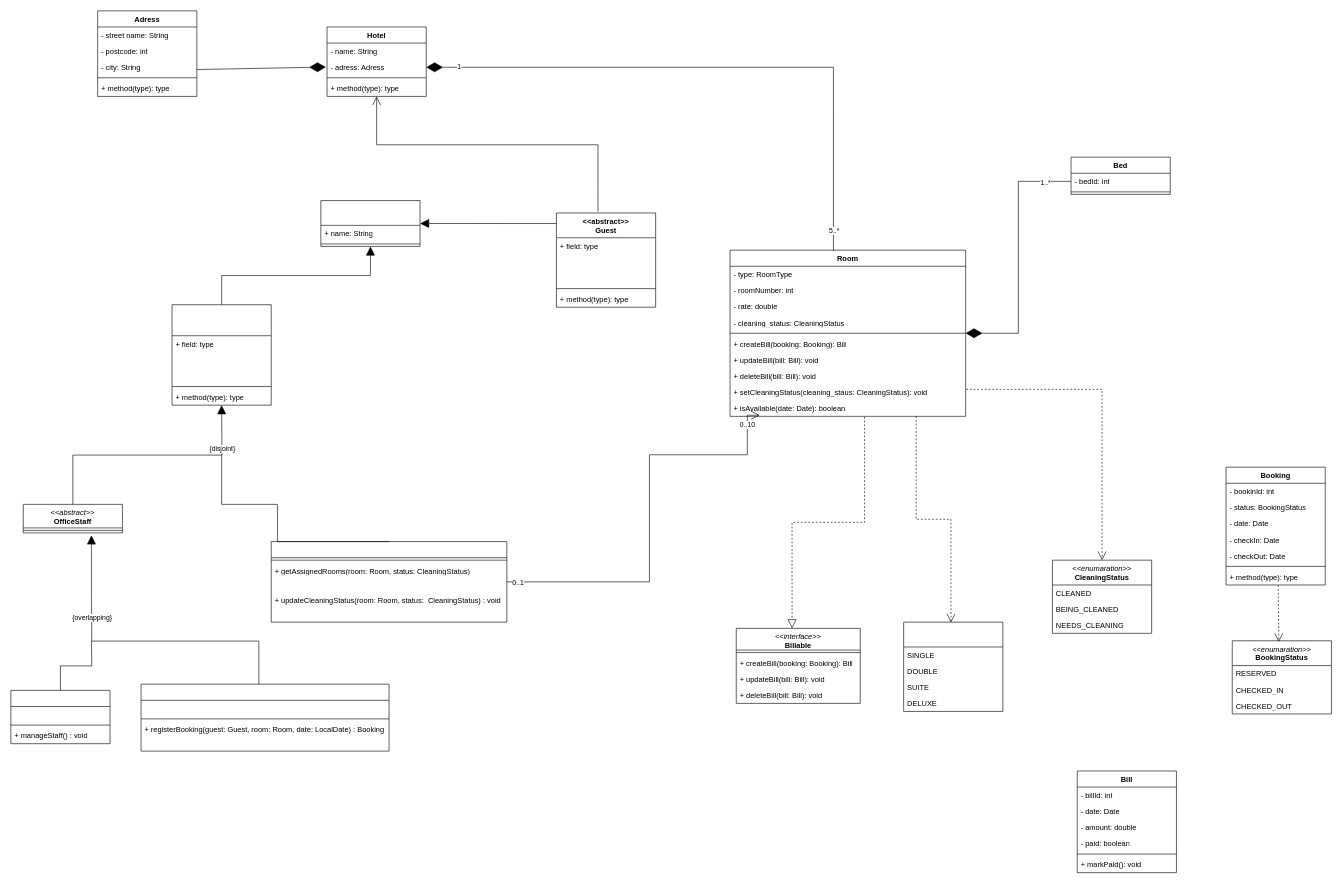
Some shapes in this 1342 by 885 pixel diagram are drawn without their labels. The shapes that lost their labels are listed below. From the top down, each one's box as (x1, y1, x2, y2) in pixels, then its label:
(320, 200, 420, 246): <<abstract>> Person
(171, 304, 271, 405): <<abstract>> Staff
(271, 541, 507, 622): Cleaner
(903, 622, 1003, 711): <<enumaration>> RoomType
(10, 690, 110, 744): Manager
(140, 684, 389, 751): Receptionist
